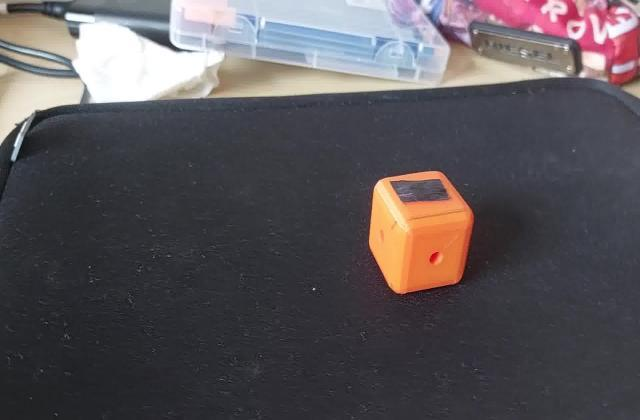black: (388, 175, 451, 208)
cube: (368, 167, 480, 298)
